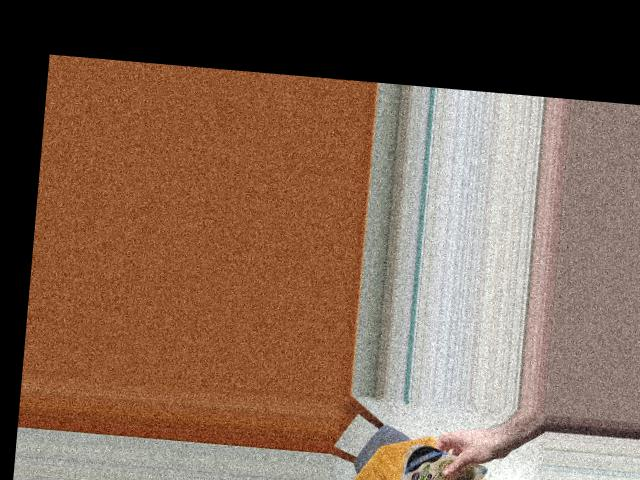cheese: (394, 454, 481, 480)
